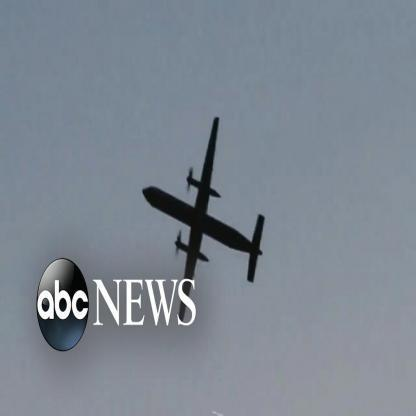CIV_Plane: (137, 110, 272, 338)
